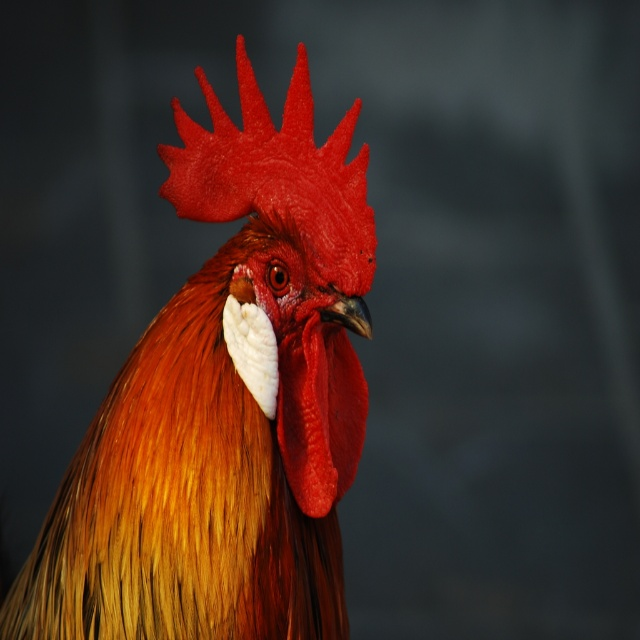Chicken: (0, 33, 377, 640)
